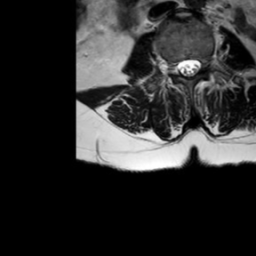CCS_normal: (185, 49, 193, 85)
LFS_normal: (201, 44, 210, 76)
LLS_normal: (193, 48, 202, 80)
RFS_normal: (167, 51, 176, 80)
RLS_normal: (176, 51, 185, 80)
